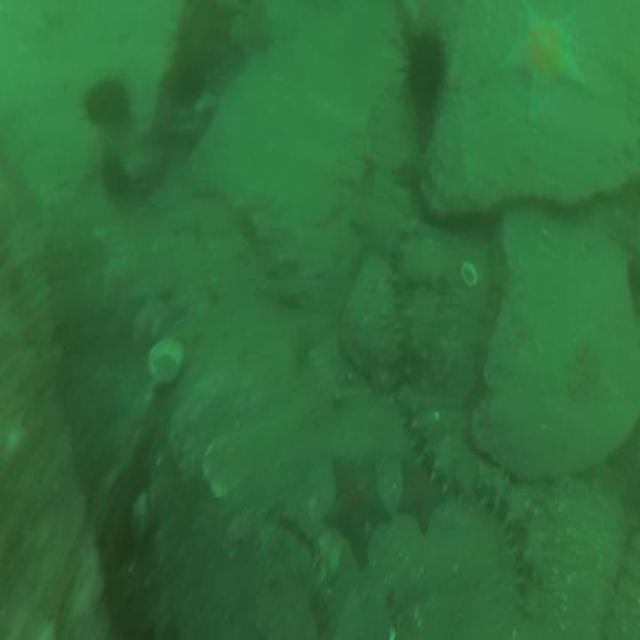echinus: (392, 22, 451, 112), (75, 62, 129, 130)
holothurian: (474, 464, 552, 592), (402, 384, 476, 501), (388, 238, 418, 378)
starfish: (500, 1, 591, 125), (324, 446, 392, 567)
